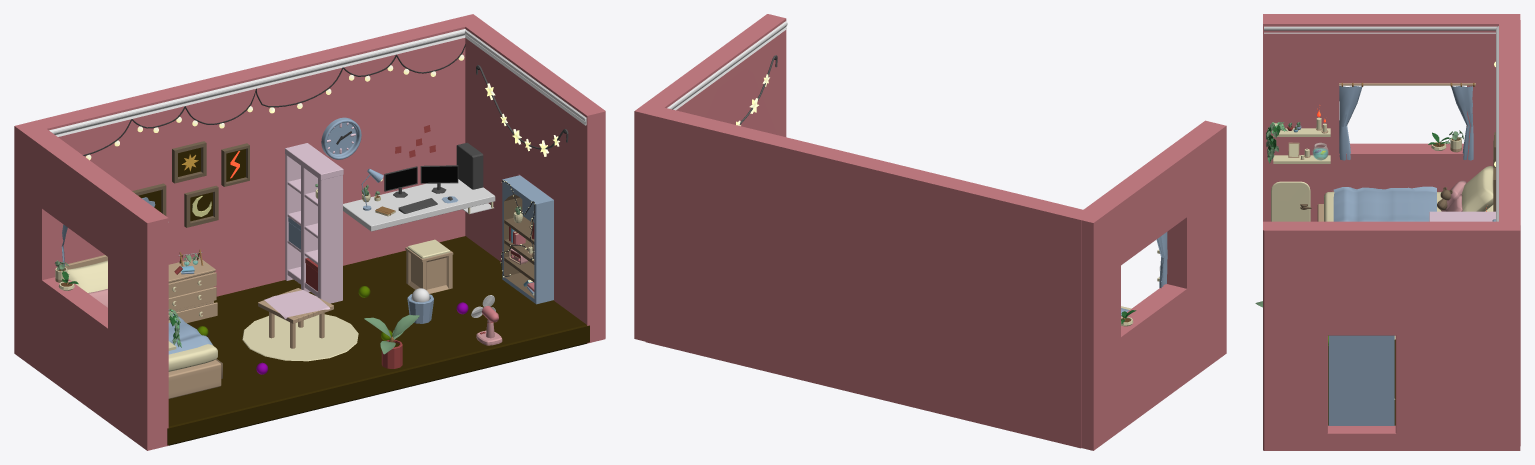
Rendered from room_fin.fbx.
The picture shows the model from 3 angles, left to right: view 1: azimuth 30°, elevation 25°; view 2: azimuth 150°, elevation 25°; view 3: azimuth 270°, elevation 25°; orthographic projection. The views are drawn at different scales.
Parts seen in each view (by area): view 1: wall2, wall3, floor1, wall1, tall_cabinet, cabinet2, desk, pCylinder1, candles1, chair, desk2, polySurface383 (+5 smaller); view 2: wall2, wall3, wall1; view 3: wall1, wall3, cabinet2, wall2, polySurface374, polySurface383, additems4:polySurface2, tall_cabinet.
Part boxes in pixels (x1=…): wall2: x1=27, y1=17, x2=470, y2=296; wall3: x1=14, y1=123, x2=181, y2=450; floor1: x1=167, y1=236, x2=589, y2=445; wall1: x1=455, y1=14, x2=605, y2=343; tall_cabinet: x1=285, y1=143, x2=343, y2=303; cabinet2: x1=500, y1=175, x2=553, y2=304; desk: x1=343, y1=165, x2=495, y2=231; pCylinder1: x1=242, y1=314, x2=358, y2=361; candles1: x1=168, y1=249, x2=216, y2=311; chair: x1=405, y1=239, x2=453, y2=293; desk2: x1=258, y1=288, x2=333, y2=348; polySurface383: x1=67, y1=260, x2=217, y2=371; wall2: x1=645, y1=106, x2=1091, y2=448; wall3: x1=1073, y1=120, x2=1226, y2=450; wall1: x1=634, y1=14, x2=787, y2=341; wall1: x1=1263, y1=221, x2=1520, y2=450; wall3: x1=1263, y1=14, x2=1520, y2=221; cabinet2: x1=1328, y1=335, x2=1394, y2=425; wall2: x1=1492, y1=20, x2=1520, y2=445; polySurface374: x1=1333, y1=186, x2=1436, y2=221; polySurface383: x1=1324, y1=166, x2=1493, y2=221; additems4:polySurface2: x1=1271, y1=181, x2=1311, y2=221; tall_cabinet: x1=1429, y1=211, x2=1495, y2=221.
Size of the model in its own units: 413 by 196 by 214.
